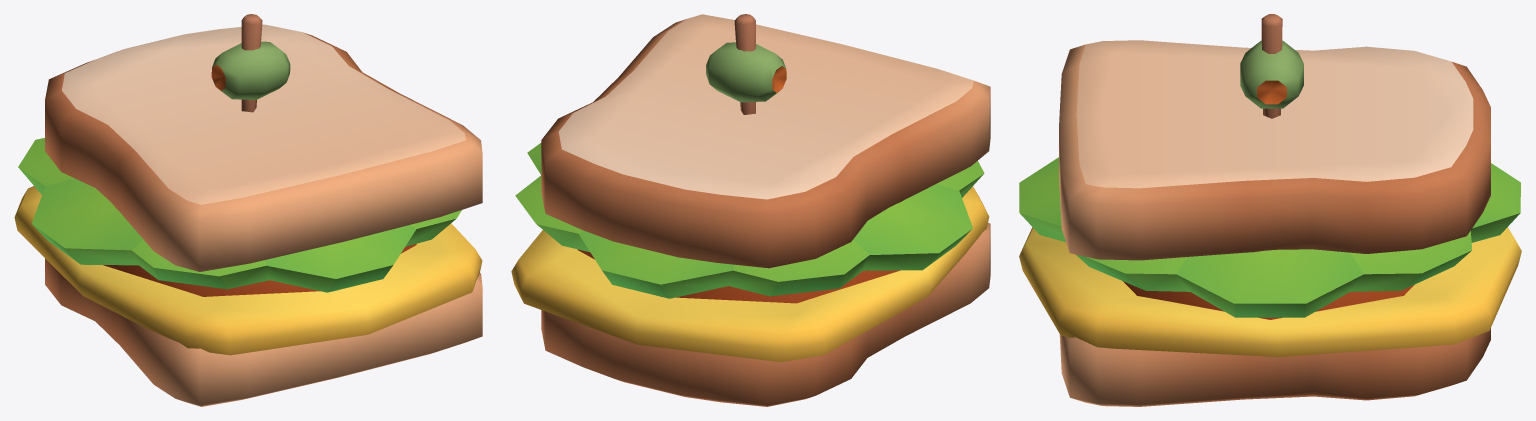
Rendered from KFB_Loot_sandwich.r1.glb.
The picture shows the model from 3 angles, left to right: view 1: azimuth 30°, elevation 25°; view 2: azimuth 150°, elevation 25°; view 3: azimuth 270°, elevation 25°; orthographic projection. The views are drawn at different scales.
Visible parts, largest first — view 1: KFB_Loot_sandwich; view 2: KFB_Loot_sandwich; view 3: KFB_Loot_sandwich.
Boxes of the visible parts, box(x1,y1,x2,y2) form: KFB_Loot_sandwich: box(14, 14, 482, 406); KFB_Loot_sandwich: box(511, 14, 990, 406); KFB_Loot_sandwich: box(1019, 14, 1521, 406).
Bounding box in the file's own units: 0.7854 × 0.5505 × 0.7875.
Materials: 1 (1 with a texture image).
